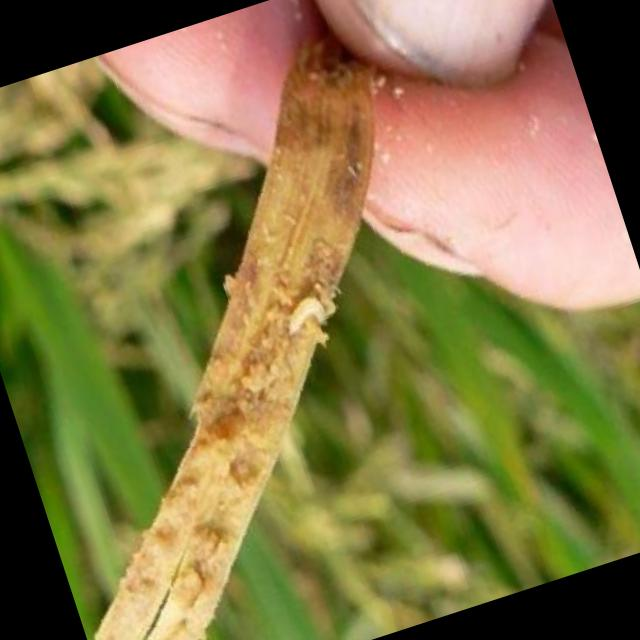whorl-maggot: (268, 285, 338, 350)
